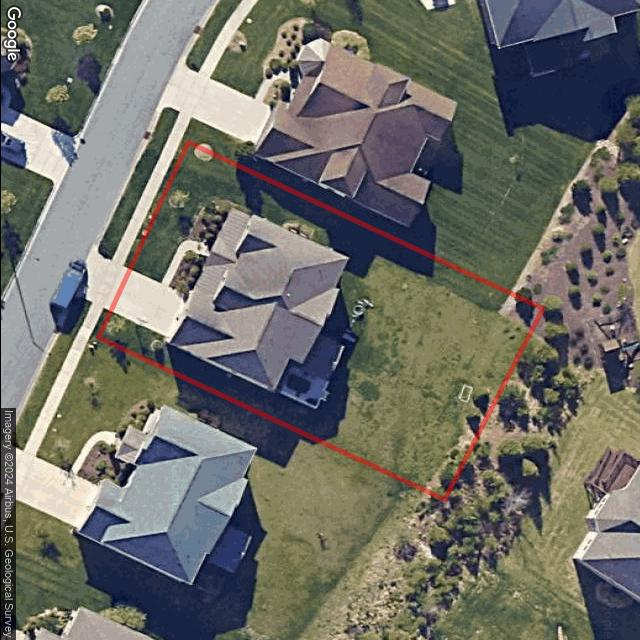Driveway: (110, 269, 191, 341)
Extra-Driveway: (70, 249, 127, 311)
Extra-Lawn: (97, 126, 168, 259), (123, 139, 188, 269), (61, 298, 91, 330), (90, 308, 111, 338)
Extra-Sidewalk: (110, 134, 180, 266), (78, 303, 101, 335)
House: (170, 203, 345, 393)
Lawn: (99, 143, 542, 499)
Other: (425, 384, 504, 499), (276, 331, 345, 411), (187, 201, 231, 246), (170, 250, 206, 295), (498, 294, 542, 330), (281, 221, 327, 247)
Sidewalk: (161, 239, 211, 284)
